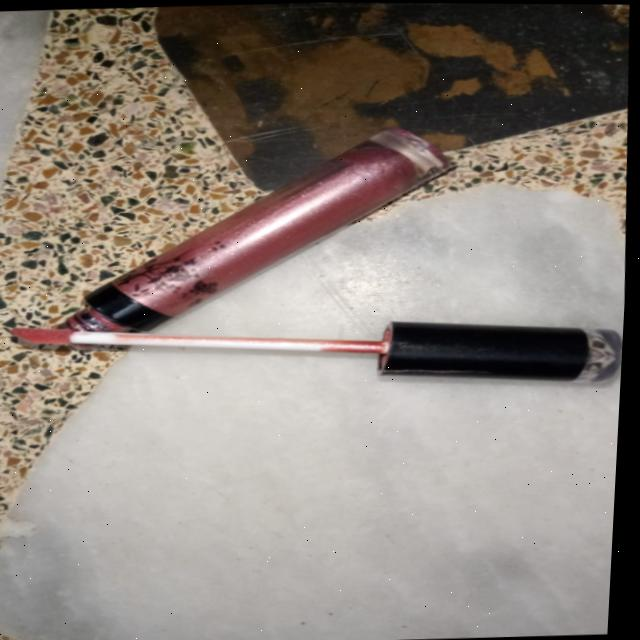lip gloss: (0, 109, 483, 372), (0, 288, 628, 408)
